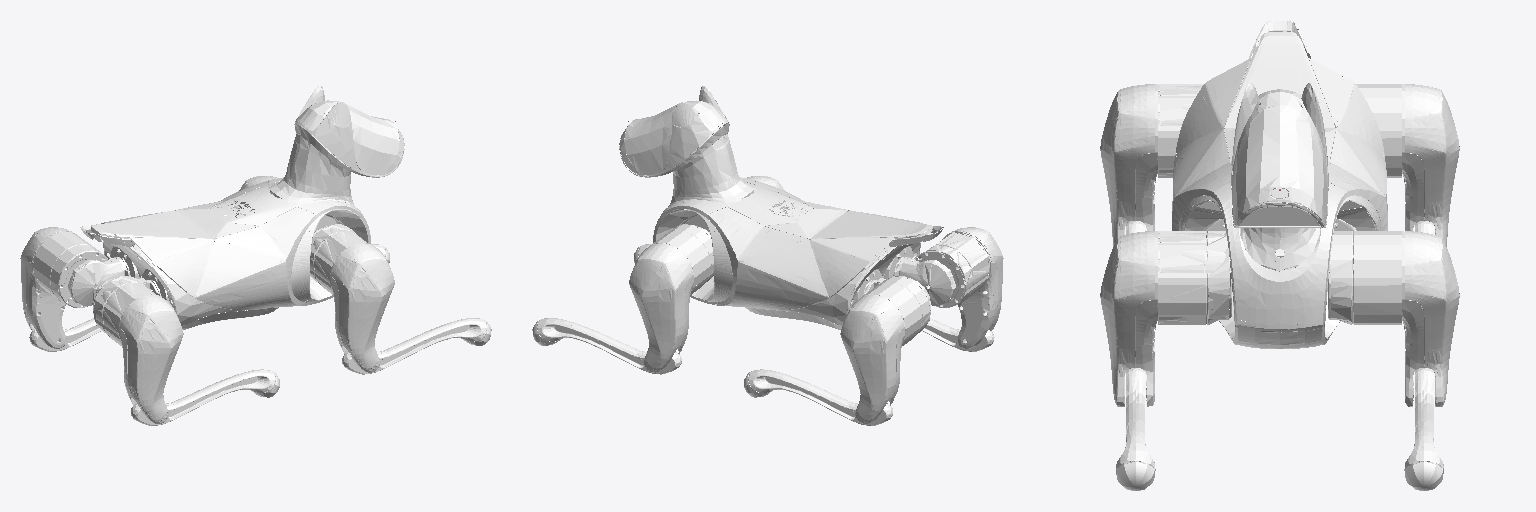
--- Render facts (derived) ---
The picture shows the robot from 3 angles, left to right: view 1: azimuth 30°, elevation 25°; view 2: azimuth 150°, elevation 25°; view 3: azimuth 270°, elevation 25°; orthographic projection.
Robot: cyberdog2 — 40 links, 39 joints (12 revolute, 27 fixed); root link base; default pose: all joints at 0 but 4 set to mid-range because 0 is outside their limits (FR_knee_joint = -1.53, FL_knee_joint = -1.53, RR_knee_joint = -1.53, RL_knee_joint = -1.53).
Visible links, largest first — view 1: body, RR_hip, FR_hip, RL_hip, RR_knee, FR_knee, RL_abad, RL_knee; view 2: body, RL_hip, FL_hip, RR_hip, RL_knee, FL_knee, RR_abad, RR_knee; view 3: body, FL_hip, FR_hip, RL_hip, RR_hip, FR_knee, FL_knee.
Boxes of the visible links, x1,y1,x2,y2 form: body: (80,86,404,329); RR_hip: (93,276,183,423); FR_hip: (310,224,394,372); RL_hip: (20,227,107,348); RR_knee: (131,369,279,425); FR_knee: (342,318,491,374); RL_abad: (68,257,130,305); RL_knee: (29,318,101,351); body: (619,86,943,329); RL_hip: (840,276,930,423); FL_hip: (629,224,713,372); RR_hip: (916,227,1003,348); RL_knee: (744,369,892,425); FL_knee: (532,318,681,374); RR_abad: (893,257,955,305); RR_knee: (922,318,994,351); body: (1172,21,1387,348); FL_hip: (1328,231,1459,406); FR_hip: (1100,231,1231,406); RL_hip: (1356,84,1459,246); RR_hip: (1100,84,1203,246); FR_knee: (1116,368,1155,490); FL_knee: (1404,368,1443,490).
Size in the robot's own frame: 0.5642 by 0.339 by 0.3545 metres.
13 mesh visuals loaded from 5 distinct referenced files (5 binary STL).

The robot description file, URDF, robot "cyberdog2":
<?xml version="1.0" ?>
<!-- =================================================================================== -->
<!-- |    This document was autogenerated by xacro from robot.xacro                    | -->
<!-- |    EDITING THIS FILE BY HAND IS NOT RECOMMENDED                                 | -->
<!-- =================================================================================== -->
<robot name="cyberdog2">
  <gazebo>
    <plugin filename="liblegged_plugin.so" name="gazebo_rt_control">
        </plugin>
    <plugin filename="libreal_time_control.so" name="gazebo_rt_control">
      <robotName>cyber_dog</robotName>
    </plugin>
  </gazebo>
  <gazebo reference="imu_link">
    <gravity>true</gravity>
    <sensor name="imu_sensor" type="imu">
      <always_on>true</always_on>
      <update_rate>500</update_rate>
      <visualize>true</visualize>
      <topic>__default_topic__</topic>
      <plugin filename="libgazebo_ros_imu_sensor.so" name="imu_plugin">
        <topicName>body_imu</topicName>
        <bodyName>imu_link</bodyName>
        <updateRateHZ>500.0</updateRateHZ>
        <gaussianNoise>0.0</gaussianNoise>
        <xyzOffset>0 0 0</xyzOffset>
        <rpyOffset>0 0 0</rpyOffset>
        <frameName>imu_link</frameName>
        <ros>
          <remapping>~/out:=imu</remapping>
        </ros>
      </plugin>
      <pose>0 0 0 0 0 0</pose>
    </sensor>
  </gazebo>
  <!-- Foot contacts. -->
  <gazebo reference="FR_knee">
    <sensor name="FR_foot_contact" type="contact">
      <update_rate>100</update_rate>
      <plugin filename="libfoot_contact_plugin.so" name="contactPlugin"/>
      <contact>
        <collision>FR_knee_fixed_joint_lump__FR_foot_collision_2</collision>
      </contact>
    </sensor>
  </gazebo>
  <gazebo reference="FL_knee">
    <sensor name="FL_foot_contact" type="contact">
      <update_rate>100</update_rate>
      <plugin filename="libfoot_contact_plugin.so" name="contactPlugin"/>
      <contact>
        <collision>FL_knee_fixed_joint_lump__FL_foot_collision_2</collision>
      </contact>
    </sensor>
  </gazebo>
  <gazebo reference="RR_knee">
    <sensor name="RR_foot_contact" type="contact">
      <update_rate>100</update_rate>
      <plugin filename="libfoot_contact_plugin.so" name="contactPlugin"/>
      <contact>
        <collision>RR_knee_fixed_joint_lump__RR_foot_collision_2</collision>
      </contact>
    </sensor>
  </gazebo>
  <gazebo reference="RL_knee">
    <sensor name="RL_foot_contact" type="contact">
      <update_rate>100</update_rate>
      <plugin filename="libfoot_contact_plugin.so" name="contactPlugin"/>
      <contact>
        <collision>RL_knee_fixed_joint_lump__RL_foot_collision_2</collision>
      </contact>
    </sensor>
  </gazebo>
  <gazebo reference="base">
    <material>Gazebo/Green</material>
    <turnGravityOff>false</turnGravityOff>
  </gazebo>
  <gazebo reference="body">
    <mu1>0.2</mu1>
    <mu2>0.2</mu2>
    <kp value="50000.0"/>
    <kd value="5000.0"/>
  </gazebo>
  <gazebo reference="stick_link">
    <mu1>0.2</mu1>
    <mu2>0.2</mu2>
    <material>Gazebo/White</material>
  </gazebo>
  <gazebo reference="imu_link">
    <mu1>0.2</mu1>
    <mu2>0.2</mu2>
    <material>Gazebo/Red</material>
  </gazebo>
  <!-- FL leg -->
  <gazebo reference="FL_abad">
    <mu1>0.2</mu1>
    <mu2>0.2</mu2>
    <material>Gazebo/DarkGrey</material>
  </gazebo>
  <gazebo reference="FL_hip">
    <mu1>0.2</mu1>
    <mu2>0.2</mu2>
    <self_collide>1</self_collide>
    <material>Gazebo/DarkGrey</material>
    <kp value="50000.0"/>
    <kd value="5000.0"/>
  </gazebo>
  <gazebo reference="FL_knee">
    <mu1>0.7</mu1>
    <mu2>0.7</mu2>
    <self_collide>1</self_collide>
  </gazebo>
  <gazebo reference="FL_foot">
    <mu1>0.7</mu1>
    <mu2>0.7</mu2>
    <self_collide>1</self_collide>
    <material>Gazebo/DarkGrey</material>
    <kp value="50000.0"/>
    <kd value="5000.0"/>
  </gazebo>
  <!-- FR leg -->
  <gazebo reference="FR_abad">
    <mu1>0.2</mu1>
    <mu2>0.2</mu2>
    <material>Gazebo/DarkGrey</material>
  </gazebo>
  <gazebo reference="FR_hip">
    <mu1>0.2</mu1>
    <mu2>0.2</mu2>
    <self_collide>1</self_collide>
    <material>Gazebo/DarkGrey</material>
    <kp value="50000.0"/>
    <kd value="5000.0"/>
  </gazebo>
  <gazebo reference="FR_knee">
    <mu1>0.2</mu1>
    <mu2>0.2</mu2>
    <self_collide>1</self_collide>
  </gazebo>
  <gazebo reference="FR_foot">
    <mu1>0.7</mu1>
    <mu2>0.7</mu2>
    <self_collide>1</self_collide>
    <material>Gazebo/DarkGrey</material>
    <kp value="50000.0"/>
    <kd value="5000.0"/>
  </gazebo>
  <!-- RL leg -->
  <gazebo reference="RL_abad">
    <mu1>0.2</mu1>
    <mu2>0.2</mu2>
    <material>Gazebo/DarkGrey</material>
  </gazebo>
  <gazebo reference="RL_hip">
    <mu1>0.2</mu1>
    <mu2>0.2</mu2>
    <self_collide>1</self_collide>
    <material>Gazebo/DarkGrey</material>
    <kp value="50000.0"/>
    <kd value="5000.0"/>
  </gazebo>
  <gazebo reference="RL_knee">
    <mu1>0.7</mu1>
    <mu2>0.7</mu2>
    <self_collide>1</self_collide>
    <kp value="5000000000.0"/>
    <kd value="50000.0"/>
  </gazebo>
  <gazebo reference="RL_foot">
    <mu1>0.7</mu1>
    <mu2>0.7</mu2>
    <self_collide>1</self_collide>
    <material>Gazebo/DarkGrey</material>
    <kp value="50000.0"/>
    <kd value="5000.0"/>
  </gazebo>
  <!-- RR leg -->
  <gazebo reference="RR_abad">
    <mu1>0.2</mu1>
    <mu2>0.2</mu2>
    <material>Gazebo/DarkGrey</material>
  </gazebo>
  <gazebo reference="RR_hip">
    <mu1>0.2</mu1>
    <mu2>0.2</mu2>
    <self_collide>1</self_collide>
    <material>Gazebo/DarkGrey</material>
    <kp value="50000.0"/>
    <kd value="5000.0"/>
  </gazebo>
  <gazebo reference="RR_knee">
    <mu1>0.7</mu1>
    <mu2>0.7</mu2>
    <self_collide>1</self_collide>
    <kp value="5000000000.0"/>
    <kd value="50000.0"/>
  </gazebo>
  <gazebo reference="RR_foot">
    <mu1>0.7</mu1>
    <mu2>0.7</mu2>
    <self_collide>1</self_collide>
    <material>Gazebo/DarkGrey</material>
    <kp value="50000.0"/>
    <kd value="5000.0"/>
  </gazebo>
  <link name="base">
    <visual>
      <origin rpy="0 0 0" xyz="0 0 0"/>
      <geometry>
        <box size="0.001 0.001 0.001"/>
      </geometry>
    </visual>
  </link>
  <joint name="floating_base" type="fixed">
    <origin rpy="0 0 0" xyz="0 0 0"/>
    <parent link="base"/>
    <child link="body"/>
  </joint>
  <link name="body">
    <visual>
      <origin rpy="0 0 0" xyz="0 0 0"/>
      <geometry>
        <mesh filename="package://cyberdog2/meshes/visual/body.stl" scale="1 1 1"/>
      </geometry>
            <material
        name="">
        <color
          rgba="1 1 1 1" />
      </material>
    </visual>
    <collision>
      <origin rpy="0 0 0" xyz="0 0 0"/>
      <geometry>
        <box size="0.4 0.25 0.109"/>
      </geometry>
    </collision>
    <inertial>
      <origin rpy="0 0 0" xyz="0.0273 -0.000242 0.0143"/>
      <mass value="4.03"/>
      <inertia ixx="0.0185" ixy="-0.000173" ixz="-0.0102" iyy="0.0517" iyz="-2.83e-05" izz="0.0483"/>
    </inertial>
  </link>
  <joint name="imu_joint" type="fixed">
    <parent link="body"/>
    <child link="imu_link"/>
    <origin rpy="0 0 0" xyz="33.4e-3 -17.2765e-3 51.0469e-3"/>
  </joint>
  <link name="imu_link">
    <inertial>
      <mass value="0.001"/>
      <origin rpy="0 0 0" xyz="0 0 0"/>
      <inertia ixx="0.0001" ixy="0" ixz="0" iyy="0.0001" iyz="0" izz="0.0001"/>
    </inertial>
    <visual>
      <origin rpy="0 0 0" xyz="0 0 0"/>
      <geometry>
        <box size="0.001 0.001 0.001"/>
      </geometry>
    </visual>
    <collision>
      <origin rpy="0 0 0" xyz="0 0 0"/>
      <geometry>
        <box size=".001 .001 .001"/>
      </geometry>
    </collision>
  </link>
  <joint name="scan_joint" type="fixed">
    <parent link="body"/>
    <child link="lidar_link"/>
    <origin rpy="0 0 0" xyz="0.21425 0 0.0908"/>
  </joint>
  <link name="lidar_link">
    <inertial>
      <mass value="0.001"/>
      <origin rpy="0 0 0" xyz="0 0 0"/>
      <inertia ixx="0.0001" ixy="0" ixz="0" iyy="0.0001" iyz="0" izz="0.0001"/>
    </inertial>
  </link>
  <joint name="D435_camera_joint" type="fixed">
    <parent link="body"/>
    <child link="D435_camera_link"/>
    <origin rpy="0 0 0" xyz="271.994e-3 25e-3 114.912e-3"/>
  </joint>
  <link name="D435_camera_link">
    <inertial>
      <mass value="0.001"/>
      <origin rpy="0 0 0" xyz="0 0 0"/>
      <inertia ixx="0.0001" ixy="0" ixz="0" iyy="0.0001" iyz="0" izz="0.0001"/>
    </inertial>
    <visual>
      <origin rpy="0 0 0" xyz="0 0 0"/>
      <geometry>
        <box size="0.001 0.001 0.001"/>
      </geometry>
    </visual>
    <collision>
      <origin rpy="0 0 0" xyz="0 0 0"/>
      <geometry>
        <box size=".001 .001 .001"/>
      </geometry>
    </collision>
  </link>
  <joint name="RGB_camera_joint" type="fixed">
    <parent link="body"/>
    <child link="RGB_camera_link"/>
    <origin rpy="0 0 0" xyz="275.76e-3 0 125.794e-3"/>
  </joint>
  <link name="RGB_camera_link">
    <inertial>
      <mass value="0.001"/>
      <origin rpy="0 0 0" xyz="0 0 0"/>
      <inertia ixx="0.0001" ixy="0" ixz="0" iyy="0.0001" iyz="0" izz="0.0001"/>
    </inertial>
    <visual>
      <origin rpy="0 0 0" xyz="0 0 0"/>
      <geometry>
        <box size="0.001 0.001 0.001"/>
      </geometry>
    </visual>
    <collision>
      <origin rpy="0 0 0" xyz="0 0 0"/>
      <geometry>
        <box size=".001 .001 .001"/>
      </geometry>
    </collision>
  </link>
  <joint name="AI_camera_joint" type="fixed">
    <parent link="body"/>
    <child link="AI_camera_link"/>
    <origin rpy="0 0 0" xyz="290.228e-3 0 147.420e-3"/>
  </joint>
  <link name="AI_camera_link">
    <inertial>
      <mass value="0.001"/>
      <origin rpy="0 0 0" xyz="0 0 0"/>
      <inertia ixx="0.0001" ixy="0" ixz="0" iyy="0.0001" iyz="0" izz="0.0001"/>
    </inertial>
    <visual>
      <origin rpy="0 0 0" xyz="0 0 0"/>
      <geometry>
        <box size="0.001 0.001 0.001"/>
      </geometry>
    </visual>
    <collision>
      <origin rpy="0 0 0" xyz="0 0 0"/>
      <geometry>
        <box size=".001 .001 .001"/>
      </geometry>
    </collision>
  </link>
  <joint name="FR_abad_joint" type="revolute">
    <origin rpy="0 0 0" xyz="0.164 -0.042 0"/>
    <parent link="body"/>
    <child link="FR_abad"/>
    <axis xyz="1 0 0"/>
    <dynamics damping="0.01" friction="0.1"/>
    <limit effort="12.0001" lower="-0.6806784082777885" upper="0.6806784082777885" velocity="30.9971"/>
  </joint>
  <link name="FR_abad">
    <visual>
      <origin rpy="3.141592653589793 0 0" xyz="0 0 0"/>
      <geometry>
        <mesh filename="package://cyberdog2/meshes/visual/abad.stl" scale="1 1 1"/>
      </geometry>
      <material
        name="">
        <color
          rgba="1 1 1 1" />
      </material>
    </visual>
    <collision>
      <origin rpy="1.5707963267948966 0 0" xyz="0 0 0"/>
      <geometry>
        <cylinder length="0.035" radius="0.039"/>
      </geometry>
    </collision>
    <inertial>
      <origin rpy="0 0 0" xyz="-0.00392 -0.015 -0.000306"/>
      <mass value="0.354"/>
      <inertia ixx="0.00019" ixy="2.7e-05" ixz="-3.44e-07" iyy="0.000276" iyz="-1.95e-06" izz="0.000233"/>
    </inertial>
  </link>
  <joint name="FR_abad_rotor_fix" type="fixed">
    <origin rpy="0 0 0" xyz="-0.0642303 0 0"/>
    <parent link="FR_abad"/>
    <child link="FR_abad_rotor"/>
  </joint>
  <!-- this link is only for abad rotor inertial -->
  <link name="FR_abad_rotor">
    <inertial>
      <origin rpy="0 0 0" xyz="0 0 0"/>
      <mass value="0.0567"/>
      <inertia ixx="2.53e-05" ixy="0" ixz="0" iyy="4.78e-05" iyz="0" izz="2.53e-05"/>
    </inertial>
  </link>
  <joint name="FR_abad_fixed" type="fixed">
    <origin rpy="0 0 0" xyz="0 -0.059 0"/>
    <parent link="FR_abad"/>
    <child link="FR_hip_shoulder"/>
  </joint>
  <link name="FR_hip_shoulder">
      <visual>
      <origin rpy="1.5707963267948966 0 0" xyz="0 0 0"/>
      <geometry>
        <cylinder length="0.035" radius="0.039"/>
      </geometry>
      <material
        name="">
        <color
          rgba="1 1 1 1" />
      </material>
    </visual>

    <collision>
      <origin rpy="1.5707963267948966 0 0" xyz="0 0 0"/>
      <geometry>
        <cylinder length="0.035" radius="0.039"/>
      </geometry>
    </collision>
  </link>
  <joint name="FR_hip_joint" type="revolute">
    <origin rpy="0 0 0" xyz="0 -0.094 0"/>
    <parent link="FR_abad"/>
    <child link="FR_hip"/>
    <axis xyz="0 1 0"/>
    <dynamics damping="0.01" friction="0.1"/>
    <limit effort="12.0001" lower="-1.3264502315156903" upper="2.792526803190927" velocity="30.9971"/>
  </joint>
  <link name="FR_hip">
    <visual>
      <origin rpy="0 0 0" xyz="0 0 0"/>
      <geometry>
        <mesh filename="package://cyberdog2/meshes/visual/hip_mirror.stl" scale="1 1 1"/>
      </geometry>
      <material
        name="">
        <color
          rgba="1 1 1 1" />
      </material>
    </visual>
    <collision>
      <origin rpy="0 1.5707963267948966 0" xyz="0 0 -0.06"/>
      <geometry>
        <box size="0.12 0.025 0.034"/>
      </geometry>
    </collision>
    <inertial>
      <origin rpy="0 0 0" xyz="-0.00212 0.0212 -0.0184"/>
      <mass value="0.482"/>
      <inertia ixx="0.00101" ixy="-2.23e-05" ixz="-3.85e-05" iyy="0.000983" iyz="-0.000199" izz="0.000347"/>
    </inertial>
  </link>
  <joint name="FR_hip_rotor_fix" type="fixed">
    <origin rpy="0 0 0" xyz="0 0.07577 0"/>
    <parent link="FR_hip"/>
    <child link="FR_hip_rotor"/>
  </joint>
  <!-- this link is only for hip rotor inertial -->
  <link name="FR_hip_rotor">
    <inertial>
      <origin rpy="0 0 0" xyz="0 0 0"/>
      <mass value="0.0567"/>
      <inertia ixx="2.53e-05" ixy="0" ixz="0" iyy="4.78e-05" iyz="0" izz="2.53e-05"/>
    </inertial>
  </link>
  <joint name="FR_knee_rotor_fix" type="fixed">
    <origin rpy="0 0 0" xyz="0 0.0342303 0"/>
    <parent link="FR_hip"/>
    <child link="FR_knee_rotor"/>
  </joint>
  <!-- this link is only for knee rotor inertial -->
  <link name="FR_knee_rotor">
    <inertial>
      <origin rpy="0 0 0" xyz="0 0 0"/>
      <mass value="0.0567"/>
      <inertia ixx="2.53e-05" ixy="0" ixz="0" iyy="4.78e-05" iyz="0" izz="2.53e-05"/>
    </inertial>
  </link>
  <joint name="FR_knee_joint" type="revolute">
    <origin rpy="0 0 0" xyz="0 0 -0.12"/>
    <parent link="FR_hip"/>
    <child link="FR_knee"/>
    <axis xyz="0 1 0"/>
    <dynamics damping="0.01" friction="0.1"/>
    <limit effort="12.0001" lower="-2.5307274153917776" upper="-0.5235987755982988" velocity="30.9971"/>
  </joint>
  <link name="FR_knee">
    <visual>
      <origin rpy="0 0 0" xyz="0 0 0"/>
      <geometry>
        <mesh filename="package://cyberdog2/meshes/visual/knee.stl" scale="1 1 1"/>
      </geometry>
      <material
        name="">
        <color
          rgba="1 1 1 1" />
      </material>
    </visual>
    <collision>
      <origin rpy="0 3.141592653589793 0" xyz="0 0 -0.091705"/>
      <geometry>
        <box size="0.016 0.016 0.18341"/>
      </geometry>
    </collision>
    <!-- <collision name="FR_knee_rubber">
      <origin rpy="0 3.141592653589793 0" xyz="-0.01 0 -0.007"/>
      <geometry>
        <sphere radius="0.016"/>
      </geometry>
      <surface>
        <contact>
          <ode>
            <max_vel>0.00001</max_vel>
            <min_depth>0.0</min_depth>
          </ode>
        </contact>
      </surface>
    </collision> -->
    <inertial>
      <origin rpy="0 0 0" xyz="0.0006 -4.72e-05 -0.0893"/>
      <mass value="0.116"/>
      <inertia ixx="0.000668" ixy="3e-09" ixz="2.37e-05" iyy="0.000674" iyz="6.03e-07" izz="1.54e-05"/>
    </inertial>
  </link>
  <joint name="FR_foot_fixed" type="fixed">
    <origin rpy="0 0 0" xyz="0.0055 0 -0.17390999999999998"/>
    <parent link="FR_knee"/>
    <child link="FR_foot"/>
  </joint>
  <link name="FR_foot">
    <visual>
      <origin rpy="0 0 0" xyz="0 0 0"/>
      <geometry>
        <sphere radius="0.009"/>
      </geometry>
      <material
        name="">
        <color
          rgba="1 1 1 1" />
      </material>
    </visual>
    <collision>
      <origin rpy="0 0 0" xyz="0 0 0"/>
      <geometry>
        <sphere radius="0.019"/>
      </geometry>
      <surface>
        <contact>
          <ode>
            <max_vel>0.001</max_vel>
            <min_depth>0.0</min_depth>
          </ode>
        </contact>
      </surface>
    </collision>
  </link>
  <transmission name="FR_abad_tran">
    <type>transmission_interface/SimpleTransmission</type>
    <joint name="FR_abad_joint">
      <hardwareInterface>hardware_interface/EffortJointInterface</hardwareInterface>
    </joint>
    <actuator name="FR_abad_motor">
      <hardwareInterface>hardware_interface/EffortJointInterface</hardwareInterface>
      <mechanicalReduction>&quot;7.75&quot;</mechanicalReduction>
    </actuator>
  </transmission>
  <transmission name="FR_hip_tran">
    <type>transmission_interface/SimpleTransmission</type>
    <joint name="FR_hip_joint">
      <hardwareInterface>hardware_interface/EffortJointInterface</hardwareInterface>
    </joint>
    <actuator name="FR_hip_motor">
      <hardwareInterface>hardware_interface/EffortJointInterface</hardwareInterface>
      <mechanicalReduction>&quot;7.75&quot;</mechanicalReduction>
    </actuator>
  </transmission>
  <transmission name="FR_knee_tran">
    <type>transmission_interface/SimpleTransmission</type>
    <joint name="FR_knee_joint">
      <hardwareInterface>hardware_interface/EffortJointInterface</hardwareInterface>
    </joint>
    <actuator name="FR_knee_motor">
      <hardwareInterface>hardware_interface/EffortJointInterface</hardwareInterface>
      <mechanicalReduction>&quot;7.75&quot;</mechanicalReduction>
    </actuator>
  </transmission>
  <joint name="FL_abad_joint" type="revolute">
    <origin rpy="0 0 0" xyz="0.164 0.042 0"/>
    <parent link="body"/>
    <child link="FL_abad"/>
    <axis xyz="1 0 0"/>
    <dynamics damping="0.01" friction="0.1"/>
    <limit effort="12.0001" lower="-0.6806784082777885" upper="0.6806784082777885" velocity="30.9971"/>
  </joint>
  <link name="FL_abad">
    <visual>
      <origin rpy="0 0 0" xyz="0 0 0"/>
      <geometry>
        <mesh filename="package://cyberdog2/meshes/visual/abad.stl" scale="1 1 1"/>
      </geometry>
      <material
        name="">
        <color
          rgba="1 1 1 1" />
      </material>
    </visual>
    <collision>
      <origin rpy="1.5707963267948966 0 0" xyz="0 0 0"/>
      <geometry>
        <cylinder length="0.035" radius="0.039"/>
      </geometry>
    </collision>
    <inertial>
      <origin rpy="0 0 0" xyz="-0.00392 0.015 -0.000306"/>
      <mass value="0.354"/>
      <inertia ixx="0.00019" ixy="-2.7e-05" ixz="-3.44e-07" iyy="0.000276" iyz="1.95e-06" izz="0.000233"/>
    </inertial>
  </link>
  <joint name="FL_abad_rotor_fix" type="fixed">
    <origin rpy="0 0 0" xyz="-0.0642303 0 0"/>
    <parent link="FL_abad"/>
    <child link="FL_abad_rotor"/>
  </joint>
  <!-- this link is only for abad rotor inertial -->
  <link name="FL_abad_rotor">
    <inertial>
      <origin rpy="0 0 0" xyz="0 0 0"/>
      <mass value="0.0567"/>
      <inertia ixx="2.53e-05" ixy="0" ixz="0" iyy="4.78e-05" iyz="0" izz="2.53e-05"/>
    </inertial>
  </link>
  <joint name="FL_abad_fixed" type="fixed">
    <origin rpy="0 0 0" xyz="0 0.059 0"/>
    <parent link="FL_abad"/>
    <child link="FL_hip_shoulder"/>
  </joint>
  <link name="FL_hip_shoulder">
    <visual>
      <origin rpy="1.5707963267948966 0 0" xyz="0 0 0"/>
      <geometry>
        <cylinder length="0.035" radius="0.039"/>
      </geometry>
      <material
        name="">
        <color
          rgba="1 1 1 1" />
      </material>
    </visual>

    <collision>
      <origin rpy="1.5707963267948966 0 0" xyz="0 0 0"/>
      <geometry>
        <cylinder length="0.035" radius="0.039"/>
      </geometry>
    </collision>
  </link>
  <joint name="FL_hip_joint" type="revolute">
    <origin rpy="0 0 0" xyz="0 0.094 0"/>
    <parent link="FL_abad"/>
    <child link="FL_hip"/>
    <axis xyz="0 1 0"/>
    <dynamics damping="0.01" friction="0.1"/>
    <limit effort="12.0001" lower="-1.3264502315156903" upper="2.792526803190927" velocity="30.9971"/>
  </joint>
  <link name="FL_hip">
    <visual>
      <origin rpy="0 0 0" xyz="0 0 0"/>
      <geometry>
        <mesh filename="package://cyberdog2/meshes/visual/hip.stl" scale="1 1 1"/>
      </geometry>
      <material
        name="">
        <color
          rgba="1 1 1 1" />
      </material>
    </visual>
    <collision>
      <origin rpy="0 1.5707963267948966 0" xyz="0 0 -0.06"/>
      <geometry>
        <box size="0.12 0.025 0.034"/>
      </geometry>
    </collision>
    <inertial>
      <origin rpy="0 0 0" xyz="-0.00212 -0.0212 -0.0184"/>
      <mass value="0.482"/>
      <inertia ixx="0.00101" ixy="2.23e-05" ixz="-3.85e-05" iyy="0.000983" iyz="0.000199" izz="0.000347"/>
    </inertial>
  </link>
  <joint name="FL_hip_rotor_fix" type="fixed">
    <origin rpy="0 0 0" xyz="0 -0.07577 0"/>
    <parent link="FL_hip"/>
    <child link="FL_hip_rotor"/>
  </joint>
  <!-- this link is only for hip rotor inertial -->
  <link name="FL_hip_rotor">
    <inertial>
      <origin rpy="0 0 0" xyz="0 0 0"/>
      <mass value="0.0567"/>
      <inertia ixx="2.53e-05" ixy="0" ixz="0" iyy="4.78e-05" iyz="0" izz="2.53e-05"/>
    </inertial>
  </link>
  <joint name="FL_knee_rotor_fix" type="fixed">
    <origin rpy="0 0 0" xyz="0 -0.0342303 0"/>
    <parent link="FL_hip"/>
    <child link="FL_knee_rotor"/>
  </joint>
  <!-- this link is only for knee rotor inertial -->
  <link name="FL_knee_rotor">
    <inertial>
      <origin rpy="0 0 0" xyz="0 0 0"/>
      <mass value="0.0567"/>
      <inertia ixx="2.53e-05" ixy="0" ixz="0" iyy="4.78e-05" iyz="0" izz="2.53e-05"/>
    </inertial>
  </link>
  <joint name="FL_knee_joint" type="revolute">
    <origin rpy="0 0 0" xyz="0 0 -0.12"/>
    <parent link="FL_hip"/>
    <child link="FL_knee"/>
    <axis xyz="0 1 0"/>
    <dynamics damping="0.01" friction="0.1"/>
    <limit effort="12.0001" lower="-2.5307274153917776" upper="-0.5235987755982988" velocity="30.9971"/>
  </joint>
  <link name="FL_knee">
    <visual>
      <origin rpy="0 0 0" xyz="0 0 0"/>
      <geometry>
        <mesh filename="package://cyberdog2/meshes/visual/knee.stl" scale="1 1 1"/>
      </geometry>
      <material
        name="">
        <color
          rgba="1 1 1 1" />
      </material>
    </visual>
    <collision>
      <origin rpy="0 3.141592653589793 0" xyz="0 0 -0.091705"/>
      <geometry>
        <box size="0.016 0.016 0.18341"/>
      </geometry>
    </collision>
    <!-- <collision name="FL_knee_rubber">
      <origin rpy="0 3.141592653589793 0" xyz="-0.01 0 -0.007"/>
      <geometry>
        <sphere radius="0.016"/>
      </geometry>
      <surface>
        <contact>
          <ode>
            <max_vel>0.00001</max_vel>
            <min_depth>0.0</min_depth>
          </ode>
        </contact>
      </surface>
    </collision> -->
    <inertial>
      <origin rpy="0 0 0" xyz="0.0006 -4.72e-05 -0.0893"/>
      <mass value="0.116"/>
      <inertia ixx="0.000668" ixy="3e-09" ixz="2.37e-05" iyy="0.000674" iyz="6.03e-07" izz="1.54e-05"/>
    </inertial>
  </link>
  <joint name="FL_foot_fixed" type="fixed">
    <origin rpy="0 0 0" xyz="0.0055 0 -0.17390999999999998"/>
    <parent link="FL_knee"/>
    <child link="FL_foot"/>
  </joint>
  <link name="FL_foot">
    <visual>
      <origin rpy="0 0 0" xyz="0 0 0"/>
      <geometry>
        <sphere radius="0.009"/>
      </geometry>
      <material
        name="">
        <color
          rgba="1 1 1 1" />
      </material>
    </visual>
    <collision>
      <origin rpy="0 0 0" xyz="0 0 0"/>
      <geometry>
        <sphere radius="0.019"/>
      </geometry>
      <surface>
        <contact>
          <ode>
            <max_vel>0.001</max_vel>
            <min_depth>0.0</min_depth>
          </ode>
        </contact>
      </surface>
    </collision>
  </link>
  <transmission name="FL_abad_tran">
    <type>transmission_interface/SimpleTransmission</type>
    <joint name="FL_abad_joint">
      <hardwareInterface>hardware_interface/EffortJointInterface</hardwareInterface>
    </joint>
    <actuator name="FL_abad_motor">
      <hardwareInterface>hardware_interface/EffortJointInterface</hardwareInterface>
      <mechanicalReduction>&quot;7.75&quot;</mechanicalReduction>
    </actuator>
  </transmission>
  <transmission name="FL_hip_tran">
    <type>transmission_interface/SimpleTransmission</type>
    <joint name="FL_hip_joint">
      <hardwareInterface>hardware_interface/EffortJointInterface</hardwareInterface>
    </joint>
    <actuator name="FL_hip_motor">
      <hardwareInterface>hardware_interface/EffortJointInterface</hardwareInterface>
      <mechanicalReduction>&quot;7.75&quot;</mechanicalReduction>
    </actuator>
  </transmission>
  <transmission name="FL_knee_tran">
    <type>transmission_interface/SimpleTransmission</type>
    <joint name="FL_knee_joint">
      <hardwareInterface>hardware_interface/EffortJointInterface</hardwareInterface>
    </joint>
    <actuator name="FL_knee_motor">
      <hardwareInterface>hardware_interface/EffortJointInterface</hardwareInterface>
      <mechanicalReduction>&quot;7.75&quot;</mechanicalReduction>
    </actuator>
  </transmission>
  <joint name="RR_abad_joint" type="revolute">
    <origin rpy="0 0 0" xyz="-0.164 -0.042 0"/>
    <parent link="body"/>
    <child link="RR_abad"/>
    <axis xyz="1 0 0"/>
    <dynamics damping="0.01" friction="0.1"/>
    <limit effort="12.0001" lower="-0.6806784082777885" upper="0.6806784082777885" velocity="30.9971"/>
  </joint>
  <link name="RR_abad">
    <visual>
      <origin rpy="3.141592653589793 3.141592653589793 0" xyz="0 0 0"/>
      <geometry>
        <mesh filename="package://cyberdog2/meshes/visual/abad.stl" scale="1 1 1"/>
      </geometry>
      <material
        name="">
        <color
          rgba="1 1 1 1" />
      </material>
    </visual>
    <collision>
      <origin rpy="1.5707963267948966 0 0" xyz="0 0 0"/>
      <geometry>
        <cylinder length="0.035" radius="0.039"/>
      </geometry>
    </collision>
    <inertial>
      <origin rpy="0 0 0" xyz="0.00392 -0.015 -0.000306"/>
      <mass value="0.354"/>
      <inertia ixx="0.00019" ixy="-2.7e-05" ixz="3.44e-07" iyy="0.000276" iyz="-1.95e-06" izz="0.000233"/>
    </inertial>
  </link>
  <joint name="RR_abad_rotor_fix" type="fixed">
    <origin rpy="0 0 0" xyz="0.0642303 0 0"/>
    <parent link="RR_abad"/>
    <child link="RR_abad_rotor"/>
  </joint>
  <!-- this link is only for abad rotor inertial -->
  <link name="RR_abad_rotor">
    <inertial>
      <origin rpy="0 0 0" xyz="0 0 0"/>
      <mass value="0.0567"/>
      <inertia ixx="2.53e-05" ixy="0" ixz="0" iyy="4.78e-05" iyz="0" izz="2.53e-05"/>
    </inertial>
  </link>
  <joint name="RR_abad_fixed" type="fixed">
    <origin rpy="0 0 0" xyz="0 -0.059 0"/>
    <parent link="RR_abad"/>
    <child link="RR_hip_shoulder"/>
  </joint>
  <link name="RR_hip_shoulder">
      <visual>
      <origin rpy="1.5707963267948966 0 0" xyz="0 0 0"/>
      <geometry>
        <cylinder length="0.035" radius="0.039"/>
      </geometry>
      <material
        name="">
        <color
          rgba="1 1 1 1" />
      </material>
    </visual>

    <collision>
      <origin rpy="1.5707963267948966 0 0" xyz="0 0 0"/>
      <geometry>
        <cylinder length="0.035" radius="0.039"/>
      </geometry>
    </collision>
  </link>
  <joint name="RR_hip_joint" type="revolute">
    <origin rpy="0 0 0" xyz="0 -0.094 0"/>
    <parent link="RR_abad"/>
    <child link="RR_hip"/>
    <axis xyz="0 1 0"/>
    <dynamics damping="0.01" friction="0.1"/>
    <limit effort="12.0001" lower="-0.9773843811168246" upper="3.141592653589793" velocity="30.9971"/>
  </joint>
  <link name="RR_hip">
    <visual>
      <origin rpy="0 0 0" xyz="0 0 0"/>
      <geometry>
        <mesh filename="package://cyberdog2/meshes/visual/hip_mirror.stl" scale="1 1 1"/>
      </geometry>
      <material
        name="">
        <color
          rgba="1 1 1 1" />
      </material>
    </visual>
    <collision>
      <origin rpy="0 1.5707963267948966 0" xyz="0 0 -0.06"/>
      <geometry>
        <box size="0.12 0.025 0.034"/>
      </geometry>
    </collision>
    <inertial>
      <origin rpy="0 0 0" xyz="-0.00212 0.0212 -0.0184"/>
      <mass value="0.482"/>
      <inertia ixx="0.00101" ixy="-2.23e-05" ixz="-3.85e-05" iyy="0.000983" iyz="-0.000199" izz="0.000347"/>
    </inertial>
  </link>
  <joint name="RR_hip_rotor_fix" type="fixed">
    <origin rpy="0 0 0" xyz="0 0.07577 0"/>
    <parent link="RR_hip"/>
    <child link="RR_hip_rotor"/>
  </joint>
  <!-- this link is only for hip rotor inertial -->
  <link name="RR_hip_rotor">
    <inertial>
      <origin rpy="0 0 0" xyz="0 0 0"/>
      <mass value="0.0567"/>
      <inertia ixx="2.53e-05" ixy="0" ixz="0" iyy="4.78e-05" iyz="0" izz="2.53e-05"/>
    </inertial>
  </link>
  <joint name="RR_knee_rotor_fix" type="fixed">
    <origin rpy="0 0 0" xyz="0 0.0342303 0"/>
    <parent link="RR_hip"/>
    <child link="RR_knee_rotor"/>
  </joint>
  <!-- this link is only for knee rotor inertial -->
  <link name="RR_knee_rotor">
    <inertial>
      <origin rpy="0 0 0" xyz="0 0 0"/>
      <mass value="0.0567"/>
      <inertia ixx="2.53e-05" ixy="0" ixz="0" iyy="4.78e-05" iyz="0" izz="2.53e-05"/>
    </inertial>
  </link>
  <joint name="RR_knee_joint" type="revolute">
    <origin rpy="0 0 0" xyz="0 0 -0.12"/>
    <parent link="RR_hip"/>
    <child link="RR_knee"/>
    <axis xyz="0 1 0"/>
    <dynamics damping="0.01" friction="0.1"/>
    <limit effort="12.0001" lower="-2.5307274153917776" upper="-0.5235987755982988" velocity="30.9971"/>
  </joint>
  <link name="RR_knee">
    <visual>
      <origin rpy="0 0 0" xyz="0 0 0"/>
      <geometry>
        <mesh filename="package://cyberdog2/meshes/visual/knee.stl" scale="1 1 1"/>
      </geometry>
      <material
        name="">
        <color
          rgba="1 1 1 1" />
      </material>
    </visual>
    <collision>
      <origin rpy="0 3.141592653589793 0" xyz="0 0 -0.091705"/>
      <geometry>
        <box size="0.016 0.016 0.18341"/>
      </geometry>
    </collision>
    <!-- <collision name="RR_knee_rubber">
      <origin rpy="0 3.141592653589793 0" xyz="-0.01 0 -0.007"/>
      <geometry>
        <sphere radius="0.016"/>
      </geometry>
      <surface>
        <contact>
          <ode>
            <max_vel>0.00001</max_vel>
            <min_depth>0.0</min_depth>
          </ode>
        </contact>
      </surface>
    </collision> -->
    <inertial>
      <origin rpy="0 0 0" xyz="0.0006 -4.72e-05 -0.0893"/>
      <mass value="0.116"/>
      <inertia ixx="0.000668" ixy="3e-09" ixz="2.37e-05" iyy="0.000674" iyz="6.03e-07" izz="1.54e-05"/>
    </inertial>
  </link>
  <joint name="RR_foot_fixed" type="fixed">
    <origin rpy="0 0 0" xyz="0.0055 0 -0.17390999999999998"/>
    <parent link="RR_knee"/>
    <child link="RR_foot"/>
  </joint>
  <link name="RR_foot">
    <visual>
      <origin rpy="0 0 0" xyz="0 0 0"/>
      <geometry>
        <sphere radius="0.009"/>
      </geometry>
      <material
        name="">
        <color
          rgba="1 1 1 1" />
      </material>
    </visual>
    <collision>
      <origin rpy="0 0 0" xyz="0 0 0"/>
      <geometry>
        <sphere radius="0.019"/>
      </geometry>
      <surface>
        <contact>
          <ode>
            <max_vel>0.001</max_vel>
            <min_depth>0.0</min_depth>
          </ode>
        </contact>
      </surface>
    </collision>
  </link>
  <transmission name="RR_abad_tran">
    <type>transmission_interface/SimpleTransmission</type>
    <joint name="RR_abad_joint">
      <hardwareInterface>hardware_interface/EffortJointInterface</hardwareInterface>
    </joint>
    <actuator name="RR_abad_motor">
      <hardwareInterface>hardware_interface/EffortJointInterface</hardwareInterface>
      <mechanicalReduction>&quot;7.75&quot;</mechanicalReduction>
    </actuator>
  </transmission>
  <transmission name="RR_hip_tran">
    <type>transmission_interface/SimpleTransmission</type>
    <joint name="RR_hip_joint">
      <hardwareInterface>hardware_interface/EffortJointInterface</hardwareInterface>
    </joint>
    <actuator name="RR_hip_motor">
      <hardwareInterface>hardware_interface/EffortJointInterface</hardwareInterface>
      <mechanicalReduction>&quot;7.75&quot;</mechanicalReduction>
    </actuator>
  </transmission>
  <transmission name="RR_knee_tran">
    <type>transmission_interface/SimpleTransmission</type>
    <joint name="RR_knee_joint">
      <hardwareInterface>hardware_interface/EffortJointInterface</hardwareInterface>
    </joint>
    <actuator name="RR_knee_motor">
      <hardwareInterface>hardware_interface/EffortJointInterface</hardwareInterface>
      <mechanicalReduction>&quot;7.75&quot;</mechanicalReduction>
    </actuator>
  </transmission>
  <joint name="RL_abad_joint" type="revolute">
    <origin rpy="0 0 0" xyz="-0.164 0.042 0"/>
    <parent link="body"/>
    <child link="RL_abad"/>
    <axis xyz="1 0 0"/>
    <dynamics damping="0.01" friction="0.1"/>
    <limit effort="12.0001" lower="-0.6806784082777885" upper="0.6806784082777885" velocity="30.9971"/>
  </joint>
  <link name="RL_abad">
    <visual>
      <origin rpy="0 3.141592653589793 0" xyz="0 0 0"/>
      <geometry>
        <mesh filename="package://cyberdog2/meshes/visual/abad.stl" scale="1 1 1"/>
      </geometry>
      <material
        name="">
        <color
          rgba="1 1 1 1" />
      </material>
    </visual>
    <collision>
      <origin rpy="1.5707963267948966 0 0" xyz="0 0 0"/>
      <geometry>
        <cylinder length="0.035" radius="0.039"/>
      </geometry>
    </collision>
    <inertial>
      <origin rpy="0 0 0" xyz="0.00392 0.015 -0.000306"/>
      <mass value="0.354"/>
      <inertia ixx="0.00019" ixy="2.7e-05" ixz="3.44e-07" iyy="0.000276" iyz="1.95e-06" izz="0.000233"/>
    </inertial>
  </link>
  <joint name="RL_abad_rotor_fix" type="fixed">
    <origin rpy="0 0 0" xyz="0.0642303 0 0"/>
    <parent link="RL_abad"/>
    <child link="RL_abad_rotor"/>
  </joint>
  <!-- this link is only for abad rotor inertial -->
  <link name="RL_abad_rotor">
    <inertial>
      <origin rpy="0 0 0" xyz="0 0 0"/>
      <mass value="0.0567"/>
      <inertia ixx="2.53e-05" ixy="0" ixz="0" iyy="4.78e-05" iyz="0" izz="2.53e-05"/>
    </inertial>
  </link>
  <joint name="RL_abad_fixed" type="fixed">
    <origin rpy="0 0 0" xyz="0 0.059 0"/>
    <parent link="RL_abad"/>
    <child link="RL_hip_shoulder"/>
  </joint>
  <link name="RL_hip_shoulder">
      <visual>
      <origin rpy="1.5707963267948966 0 0" xyz="0 0 0"/>
      <geometry>
        <cylinder length="0.035" radius="0.039"/>
      </geometry>
      <material
        name="">
        <color
          rgba="1 1 1 1" />
      </material>
    </visual>

    <collision>
      <origin rpy="1.5707963267948966 0 0" xyz="0 0 0"/>
      <geometry>
        <cylinder length="0.035" radius="0.039"/>
      </geometry>
    </collision>
  </link>
  <joint name="RL_hip_joint" type="revolute">
    <origin rpy="0 0 0" xyz="0 0.094 0"/>
    <parent link="RL_abad"/>
    <child link="RL_hip"/>
    <axis xyz="0 1 0"/>
    <dynamics damping="0.01" friction="0.1"/>
    <limit effort="12.0001" lower="-0.9773843811168246" upper="3.141592653589793" velocity="30.9971"/>
  </joint>
  <link name="RL_hip">
    <visual>
      <origin rpy="0 0 0" xyz="0 0 0"/>
      <geometry>
        <mesh filename="package://cyberdog2/meshes/visual/hip.stl" scale="1 1 1"/>
      </geometry>
      <material
        name="">
        <color
          rgba="1 1 1 1" />
      </material>
    </visual>
    <collision>
      <origin rpy="0 1.5707963267948966 0" xyz="0 0 -0.06"/>
      <geometry>
        <box size="0.12 0.025 0.034"/>
      </geometry>
    </collision>
    <inertial>
      <origin rpy="0 0 0" xyz="-0.00212 -0.0212 -0.0184"/>
      <mass value="0.482"/>
      <inertia ixx="0.00101" ixy="2.23e-05" ixz="-3.85e-05" iyy="0.000983" iyz="0.000199" izz="0.000347"/>
    </inertial>
  </link>
  <joint name="RL_hip_rotor_fix" type="fixed">
    <origin rpy="0 0 0" xyz="0 -0.07577 0"/>
    <parent link="RL_hip"/>
    <child link="RL_hip_rotor"/>
  </joint>
  <!-- this link is only for hip rotor inertial -->
  <link name="RL_hip_rotor">
    <inertial>
      <origin rpy="0 0 0" xyz="0 0 0"/>
      <mass value="0.0567"/>
      <inertia ixx="2.53e-05" ixy="0" ixz="0" iyy="4.78e-05" iyz="0" izz="2.53e-05"/>
    </inertial>
  </link>
  <joint name="RL_knee_rotor_fix" type="fixed">
    <origin rpy="0 0 0" xyz="0 -0.0342303 0"/>
    <parent link="RL_hip"/>
    <child link="RL_knee_rotor"/>
  </joint>
  <!-- this link is only for knee rotor inertial -->
  <link name="RL_knee_rotor">
    <inertial>
      <origin rpy="0 0 0" xyz="0 0 0"/>
      <mass value="0.0567"/>
      <inertia ixx="2.53e-05" ixy="0" ixz="0" iyy="4.78e-05" iyz="0" izz="2.53e-05"/>
    </inertial>
  </link>
  <joint name="RL_knee_joint" type="revolute">
    <origin rpy="0 0 0" xyz="0 0 -0.12"/>
    <parent link="RL_hip"/>
    <child link="RL_knee"/>
    <axis xyz="0 1 0"/>
    <dynamics damping="0.01" friction="0.1"/>
    <limit effort="12.0001" lower="-2.5307274153917776" upper="-0.5235987755982988" velocity="30.9971"/>
  </joint>
  <link name="RL_knee">
    <visual>
      <origin rpy="0 0 0" xyz="0 0 0"/>
      <geometry>
        <mesh filename="package://cyberdog2/meshes/visual/knee.stl" scale="1 1 1"/>
      </geometry>
      <material
        name="">
        <color
          rgba="1 1 1 1" />
      </material>
    </visual>
    <collision>
      <origin rpy="0 3.141592653589793 0" xyz="0 0 -0.091705"/>
      <geometry>
        <box size="0.016 0.016 0.18341"/>
      </geometry>
    </collision>
    <!-- <collision name="RL_knee_rubber">
      <origin rpy="0 3.141592653589793 0" xyz="-0.01 0 -0.007"/>
      <geometry>
        <sphere radius="0.016"/>
      </geometry>
      <surface>
        <contact>
          <ode>
            <max_vel>0.00001</max_vel>
            <min_depth>0.0</min_depth>
          </ode>
        </contact>
      </surface>
    </collision> -->
    <inertial>
      <origin rpy="0 0 0" xyz="0.0006 -4.72e-05 -0.0893"/>
      <mass value="0.116"/>
      <inertia ixx="0.000668" ixy="3e-09" ixz="2.37e-05" iyy="0.000674" iyz="6.03e-07" izz="1.54e-05"/>
    </inertial>
  </link>
  <joint name="RL_foot_fixed" type="fixed">
    <origin rpy="0 0 0" xyz="0.0055 0 -0.17390999999999998"/>
    <parent link="RL_knee"/>
    <child link="RL_foot"/>
  </joint>
  <link name="RL_foot">
    <visual>
      <origin rpy="0 0 0" xyz="0 0 0"/>
      <geometry>
        <sphere radius="0.009"/>
      </geometry>
      <material
        name="">
        <color
          rgba="1 1 1 1" />
      </material>
    </visual>
    <collision>
      <origin rpy="0 0 0" xyz="0 0 0"/>
      <geometry>
        <sphere radius="0.019"/>
      </geometry>
      <surface>
        <contact>
          <ode>
            <max_vel>0.001</max_vel>
            <min_depth>0.0</min_depth>
          </ode>
        </contact>
      </surface>
    </collision>
  </link>
  <transmission name="RL_abad_tran">
    <type>transmission_interface/SimpleTransmission</type>
    <joint name="RL_abad_joint">
      <hardwareInterface>hardware_interface/EffortJointInterface</hardwareInterface>
    </joint>
    <actuator name="RL_abad_motor">
      <hardwareInterface>hardware_interface/EffortJointInterface</hardwareInterface>
      <mechanicalReduction>&quot;7.75&quot;</mechanicalReduction>
    </actuator>
  </transmission>
  <transmission name="RL_hip_tran">
    <type>transmission_interface/SimpleTransmission</type>
    <joint name="RL_hip_joint">
      <hardwareInterface>hardware_interface/EffortJointInterface</hardwareInterface>
    </joint>
    <actuator name="RL_hip_motor">
      <hardwareInterface>hardware_interface/EffortJointInterface</hardwareInterface>
      <mechanicalReduction>&quot;7.75&quot;</mechanicalReduction>
    </actuator>
  </transmission>
  <transmission name="RL_knee_tran">
    <type>transmission_interface/SimpleTransmission</type>
    <joint name="RL_knee_joint">
      <hardwareInterface>hardware_interface/EffortJointInterface</hardwareInterface>
    </joint>
    <actuator name="RL_knee_motor">
      <hardwareInterface>hardware_interface/EffortJointInterface</hardwareInterface>
      <mechanicalReduction>&quot;7.75&quot;</mechanicalReduction>
    </actuator>
  </transmission>
  <!-- This link is only for head collision -->
  <joint name="head_joint" type="fixed">
    <parent link="body"/>
    <child link="head"/>
    <origin rpy="0 0 0" xyz="0 0 0"/>
  </joint>
  <link name="head">
    <!-- <collision>
      <origin rpy="0 0 0" xyz="0.256 0 0.120"/>
      <geometry>
        <box size="0.076 0.060 0.040"/>
      </geometry>
    </collision> -->
    <!-- <collision>
      <origin rpy="0 0 0" xyz="0.225 0 0.150"/>
      <geometry>
        <box size="0.020 0.080 0.100"/>
      </geometry>
    </collision> -->
  </link>
</robot>
